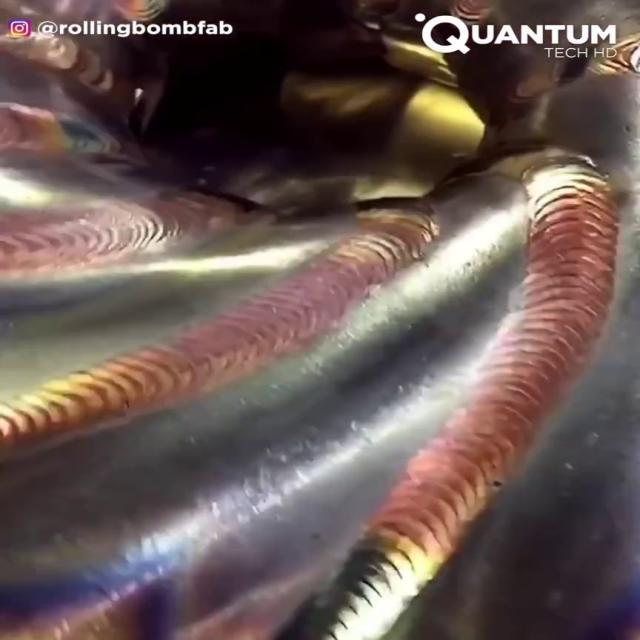Good Welding: (278, 158, 619, 640)
